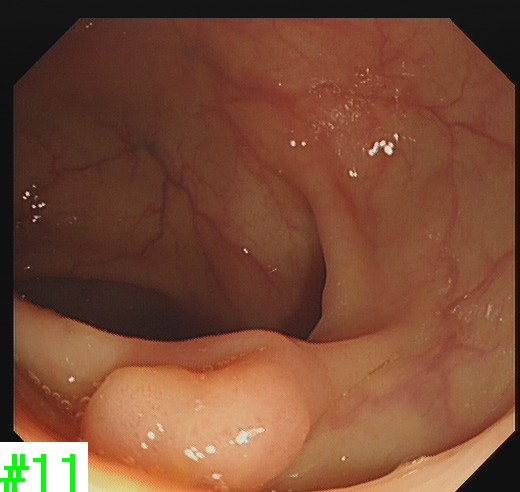adenoma: (77, 357, 316, 489)
